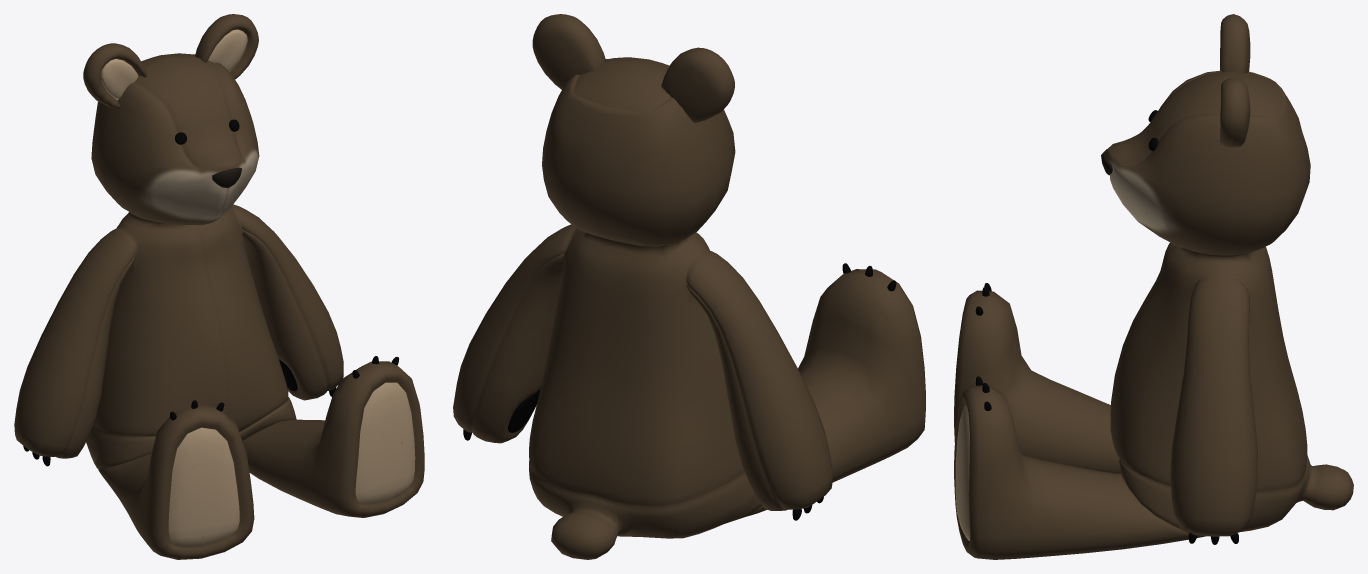
Rendered from orsacchiotto_fix.fbx.
The picture shows the model from 3 angles, left to right: view 1: azimuth 30°, elevation 25°; view 2: azimuth 150°, elevation 25°; view 3: azimuth 270°, elevation 25°; orthographic projection. The views are drawn at different scales.
Parts seen in each view (by area): view 1: body.004; view 2: body.004; view 3: body.004.
Boxes of the visible parts, x1,y1,x2,y2 form: body.004: [14, 14, 424, 559]; body.004: [453, 14, 925, 559]; body.004: [954, 14, 1353, 559].
Bounding box in the file's own units: 15.37 × 19.6 × 15.51.
Materials: 1 (1 with a texture image).
